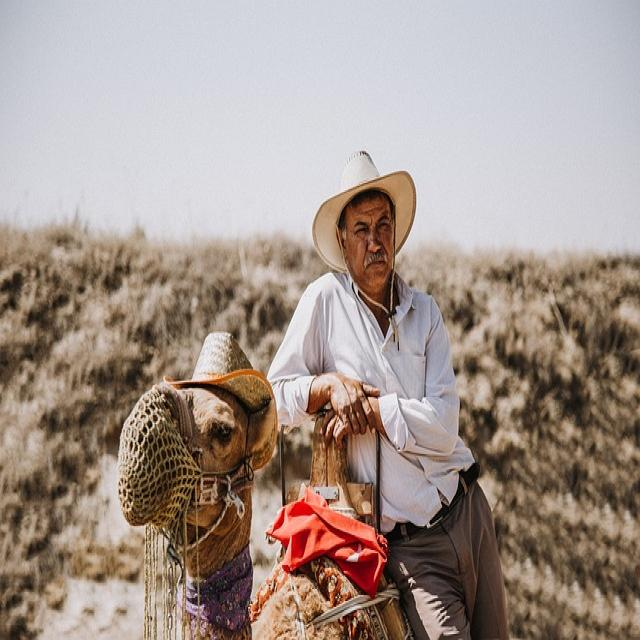Real human 2: (261, 106, 526, 640)
